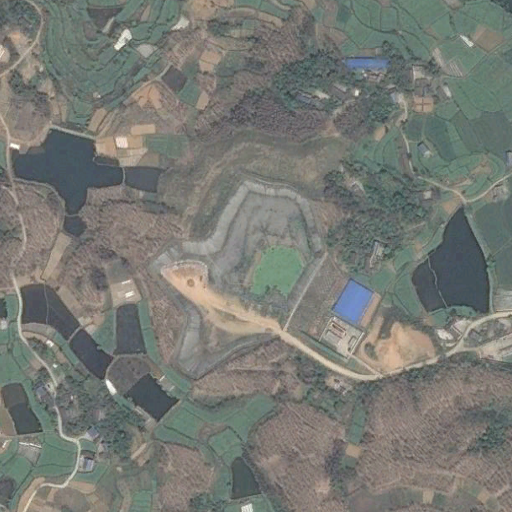lf: (150, 175, 325, 379)
